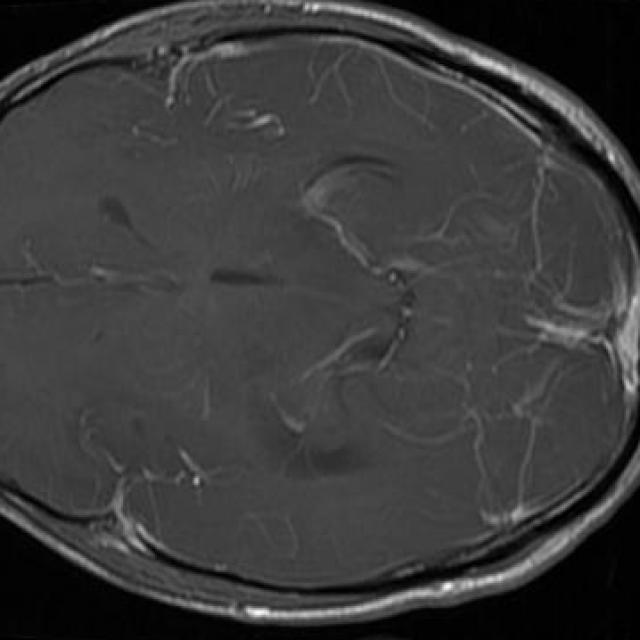glioma: (258, 405, 362, 478)
